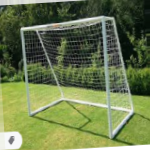goals: (20, 14, 135, 144)
